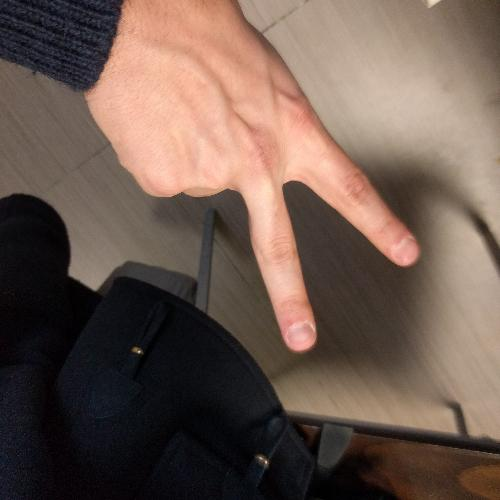scissors: (108, 3, 432, 356)
